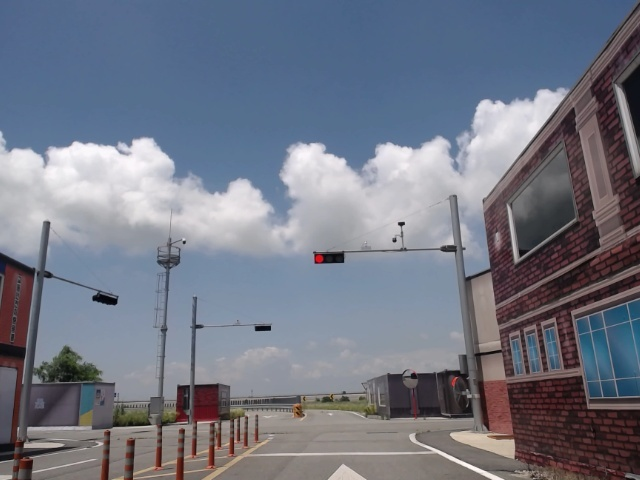red_3: (312, 253, 344, 264)
